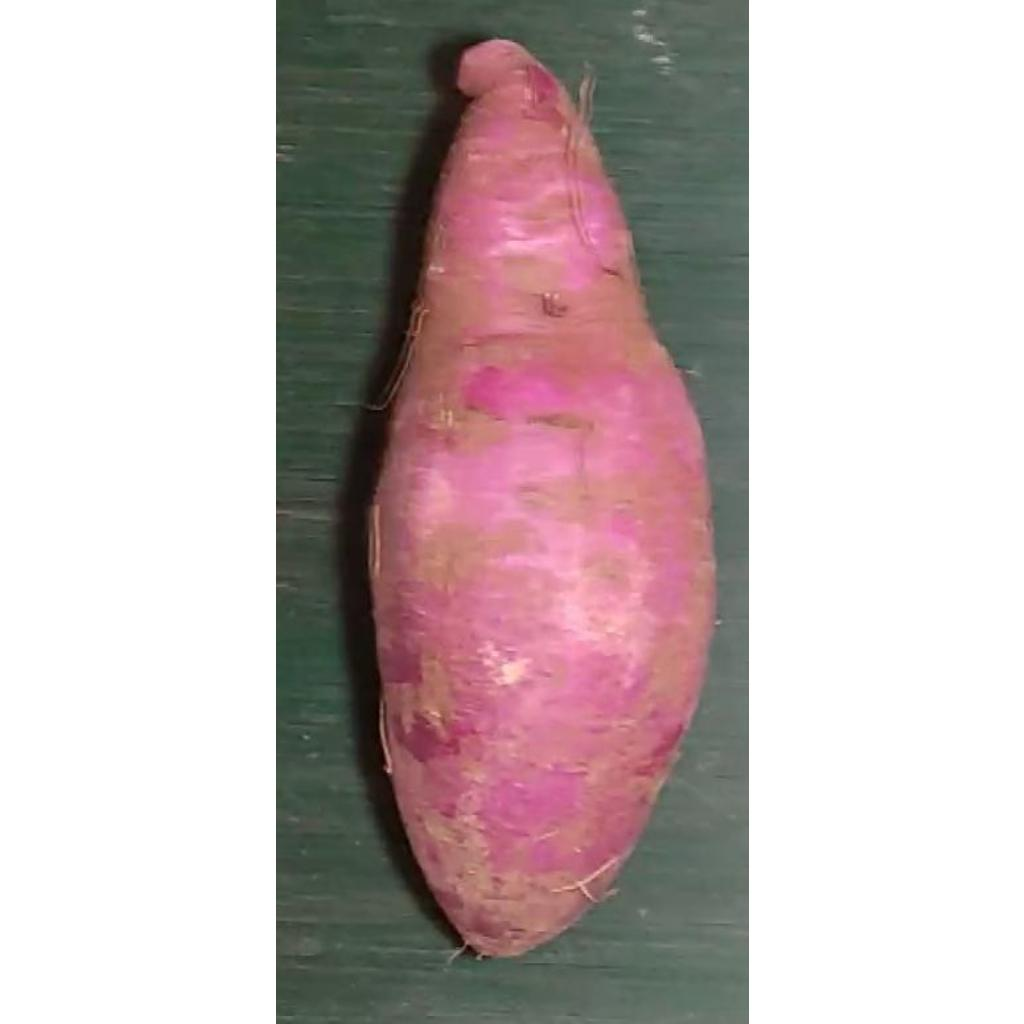Sweet Potato: (369, 40, 718, 960)
